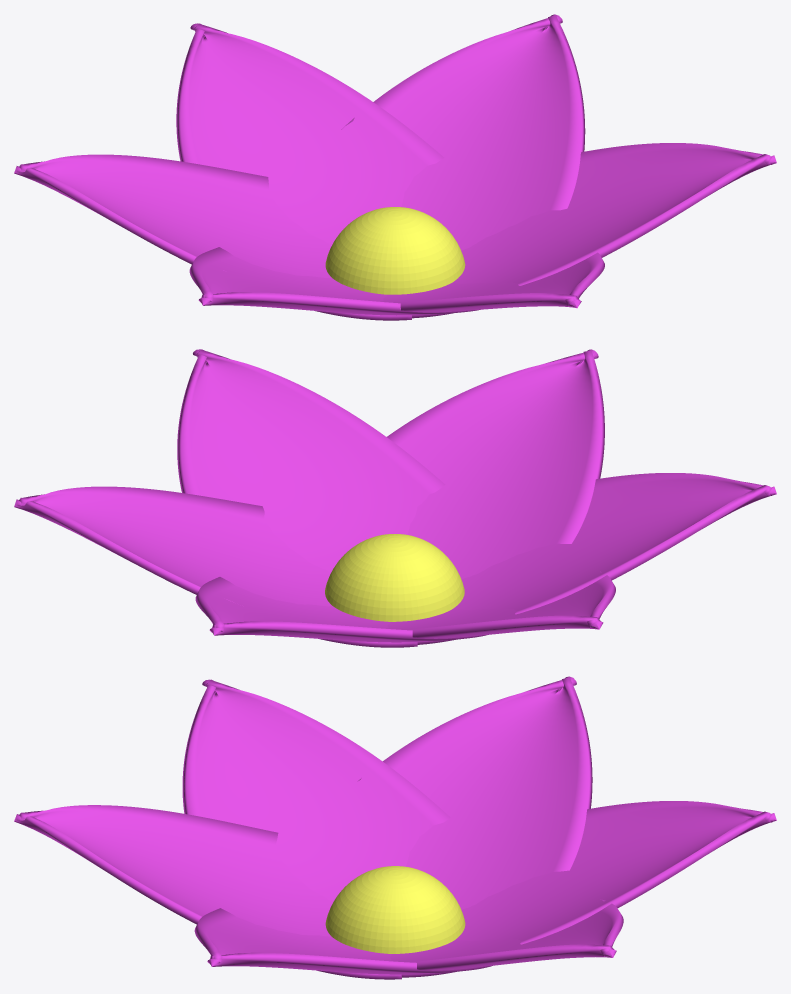
The model's file is SM_Flowers.fbx.
3 renders of one model, top to bottom at view 1: azimuth 30°, elevation 25°; view 2: azimuth 150°, elevation 25°; view 3: azimuth 270°, elevation 25°, orthographic.
Parts seen in each view (by area): view 1: SurfPatch, Flower1; view 2: SurfPatch, Flower1; view 3: SurfPatch, Flower1.
Boxes of the visible parts, box(x1,y1,x2,y2) form: SurfPatch: box(14, 14, 776, 320); Flower1: box(325, 207, 465, 294); SurfPatch: box(14, 349, 776, 647); Flower1: box(325, 534, 464, 621); SurfPatch: box(14, 676, 776, 979); Flower1: box(325, 866, 465, 953).
Bounding box in the file's own units: 0.8161 × 0.1621 × 0.925.
